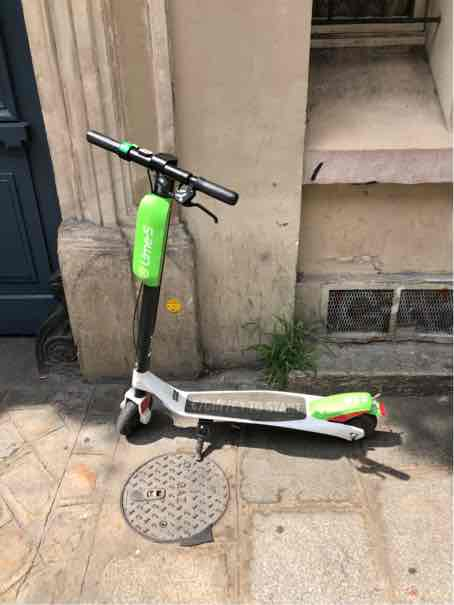scooter: (79, 119, 391, 466)
